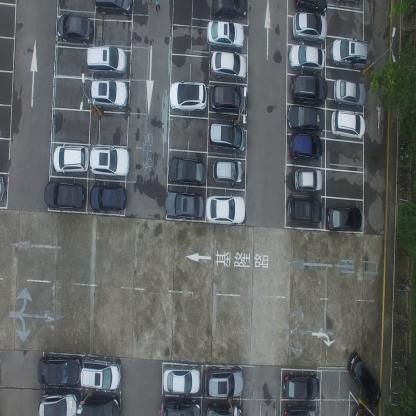car: (346, 350, 382, 406), (36, 352, 82, 385), (80, 357, 121, 391), (88, 145, 130, 177), (167, 158, 208, 190), (206, 18, 244, 52), (165, 191, 205, 223), (168, 80, 208, 112), (206, 194, 247, 225), (209, 121, 247, 154), (56, 13, 94, 46), (86, 47, 127, 77), (292, 10, 328, 44), (43, 181, 85, 210), (210, 50, 248, 82), (330, 36, 368, 68), (290, 72, 328, 104), (205, 366, 243, 398), (88, 79, 128, 109), (282, 368, 319, 400), (162, 364, 201, 394), (330, 109, 366, 141), (288, 44, 326, 74), (210, 83, 249, 112), (89, 183, 127, 212), (53, 142, 89, 172), (287, 103, 324, 132), (333, 77, 366, 109), (37, 391, 79, 416), (286, 195, 322, 224), (289, 132, 323, 162), (326, 204, 362, 232), (78, 393, 121, 415), (212, 156, 243, 185), (160, 398, 202, 416), (294, 166, 322, 192), (94, 0, 132, 19), (213, 0, 248, 19), (294, 0, 327, 15), (281, 402, 317, 415), (206, 403, 242, 415)
